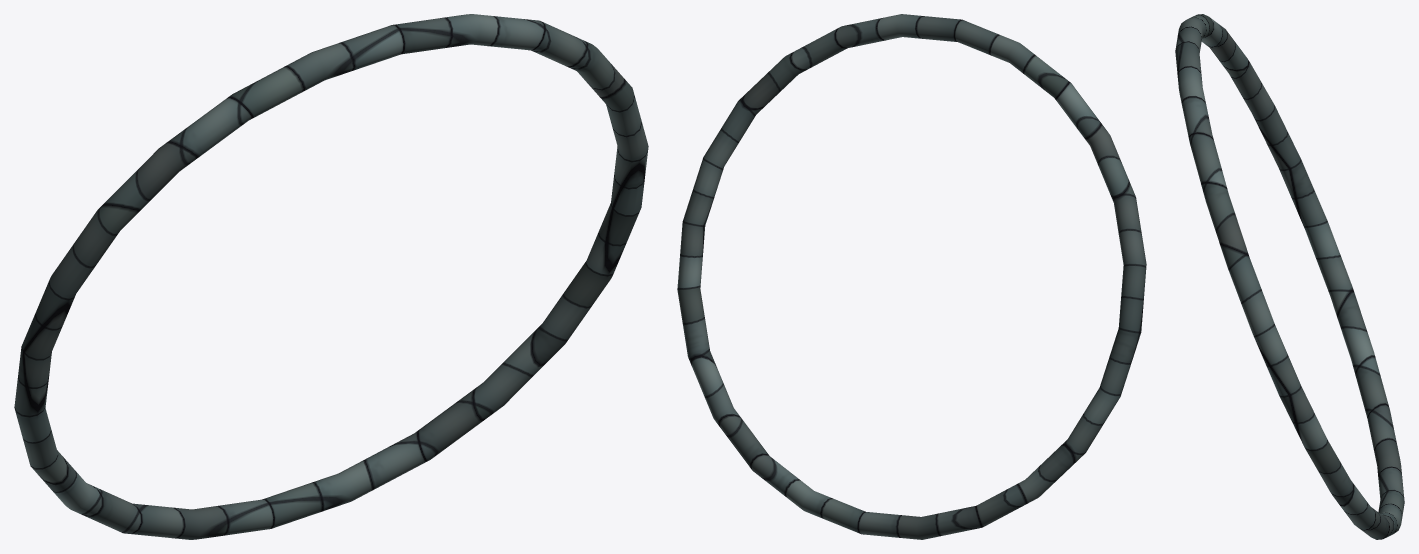
The model's file is aro3.obj.
3 renders of one model, left to right at view 1: azimuth 30°, elevation 25°; view 2: azimuth 150°, elevation 25°; view 3: azimuth 270°, elevation 25°, orthographic. The views are drawn at different scales.
Visible parts, largest first — view 1: Torus003; view 2: Torus003; view 3: Torus003.
Boxes of the visible parts, x1,y1,x2,y2 form: Torus003: [14, 14, 648, 539]; Torus003: [677, 14, 1146, 539]; Torus003: [1175, 14, 1404, 539].
Size of the model in its own units: 72.58 by 67.27 by 29.71.
Materials: 1 (1 with a texture image).
